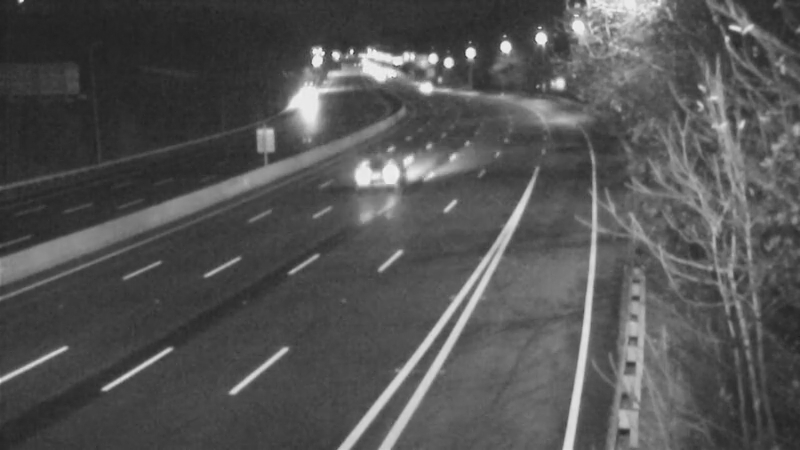vehicle: (339, 129, 419, 209), (401, 63, 451, 113)
